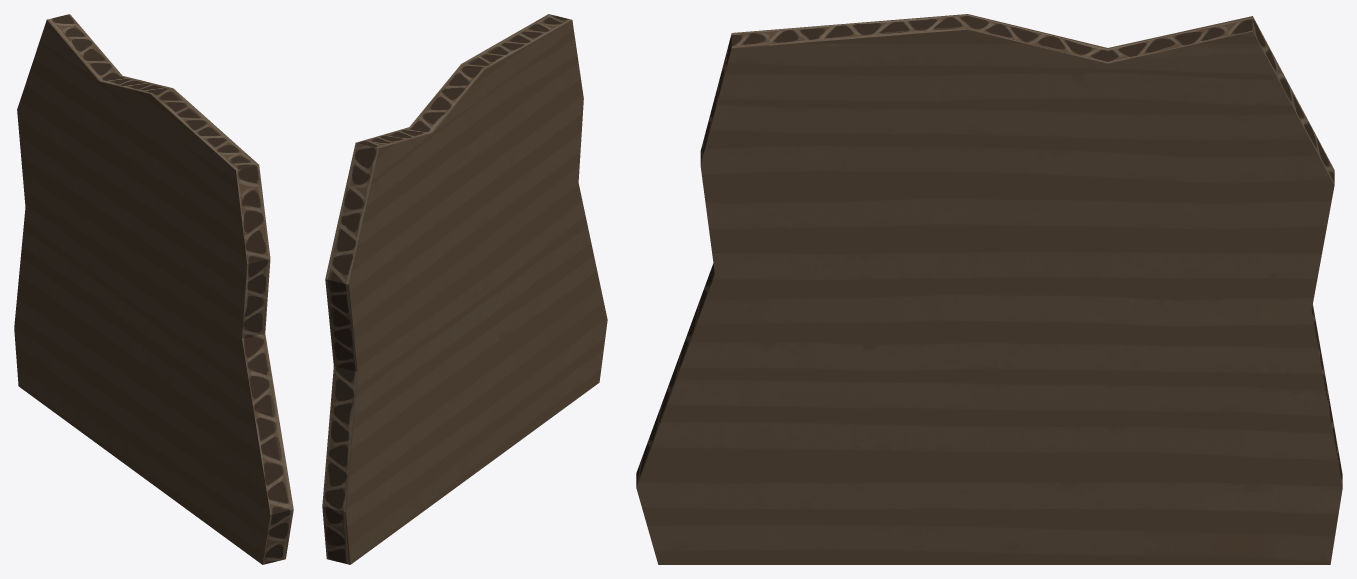
File: crowd 1.fbx
The picture shows the model from 3 angles, left to right: view 1: azimuth 30°, elevation 25°; view 2: azimuth 150°, elevation 25°; view 3: azimuth 270°, elevation 25°; orthographic projection. The views are drawn at different scales.
Visible parts, largest first — view 1: pCube1; view 2: pCube1; view 3: pCube1.
Boxes of the visible parts, bbox=[...] form: pCube1: bbox=[14, 14, 293, 564]; pCube1: bbox=[322, 14, 607, 564]; pCube1: bbox=[636, 14, 1342, 564].
Size of the model in its own units: 0.1845 by 2.95 by 3.53.
Materials: 1 (1 with a texture image).
